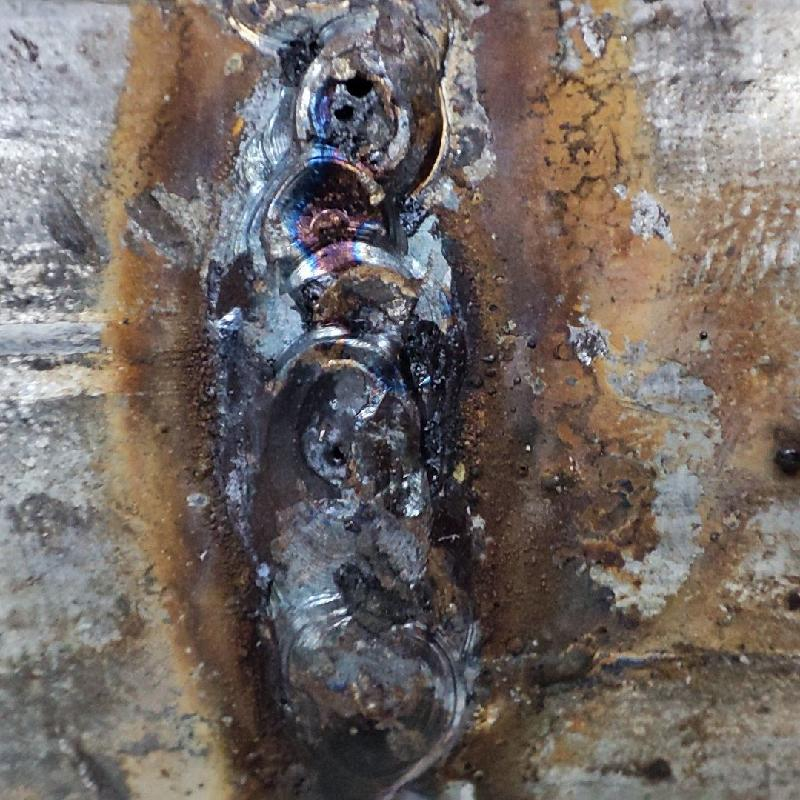Surface_pores: (311, 65, 381, 130)
crater: (223, 2, 466, 500)
